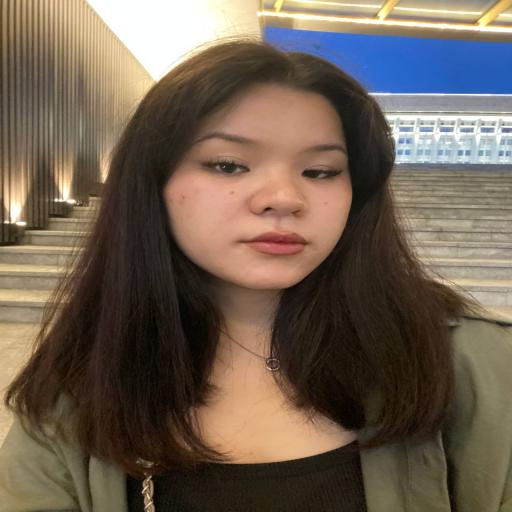crosswalk: (0, 40, 511, 511)
laptop: (0, 159, 512, 435)
